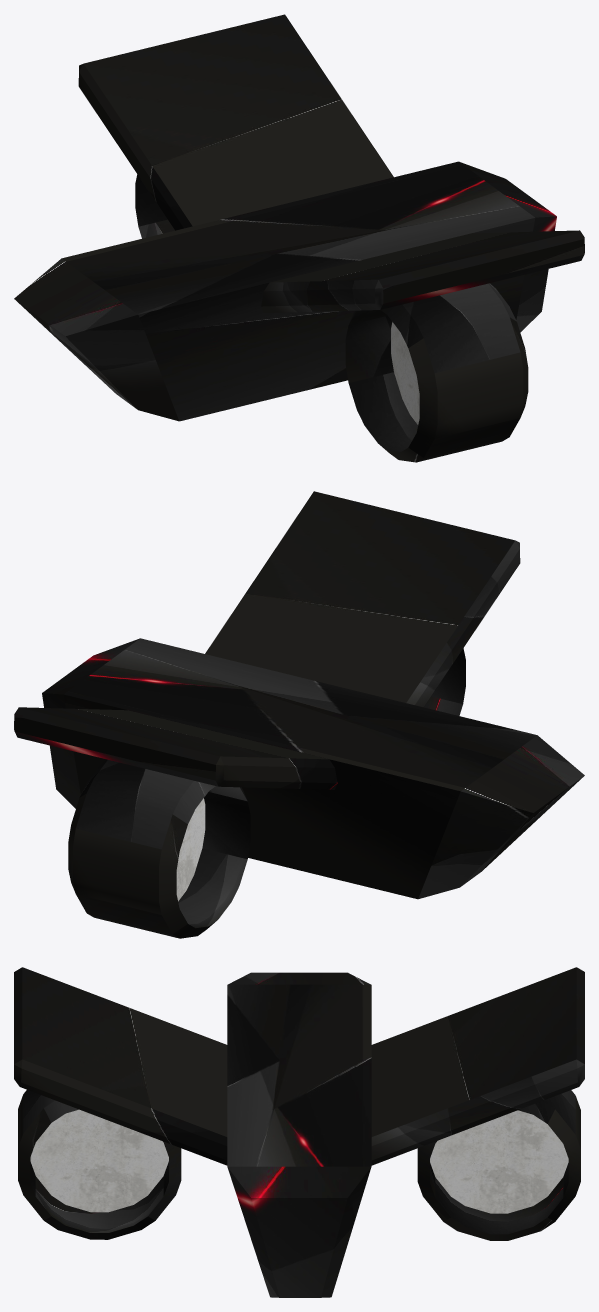
The model's file is Drone2_Textured.fbx.
The picture shows the model from 3 angles, top to bottom: view 1: azimuth 30°, elevation 25°; view 2: azimuth 150°, elevation 25°; view 3: azimuth 270°, elevation 25°; orthographic projection. The views are drawn at different scales.
Parts seen in each view (by area): view 1: pCube17, pasted__pCube18, pasted__pasted__pCylinder5, pasted__pasted__pCube18, pasted__pCylinder5; view 2: pCube17, pasted__pasted__pCube18, pasted__pCylinder5, pasted__pCube18, pasted__pasted__pCylinder5; view 3: pCube17, pasted__pCube18, pasted__pasted__pCube18, pasted__pCylinder5, pasted__pasted__pCylinder5.
Part boxes in pixels (x1,y1,x2,y2): pCube17: (14, 161, 556, 421); pasted__pCube18: (78, 14, 393, 230); pasted__pasted__pCylinder5: (345, 283, 528, 462); pasted__pasted__pCube18: (261, 230, 584, 312); pasted__pCylinder5: (135, 174, 174, 238); pCube17: (42, 638, 584, 899); pasted__pasted__pCube18: (205, 491, 520, 707); pasted__pCylinder5: (68, 759, 250, 938); pasted__pCube18: (14, 707, 337, 789); pasted__pasted__pCylinder5: (424, 648, 465, 715); pCube17: (227, 972, 371, 1297); pasted__pCube18: (371, 967, 584, 1165); pasted__pasted__pCube18: (14, 967, 227, 1165); pasted__pCylinder5: (417, 1090, 580, 1240); pasted__pasted__pCylinder5: (18, 1090, 181, 1239).
Size of the model in its own units: 16.93 by 7.3 by 18.13.
Materials: 2 (2 with a texture image).
